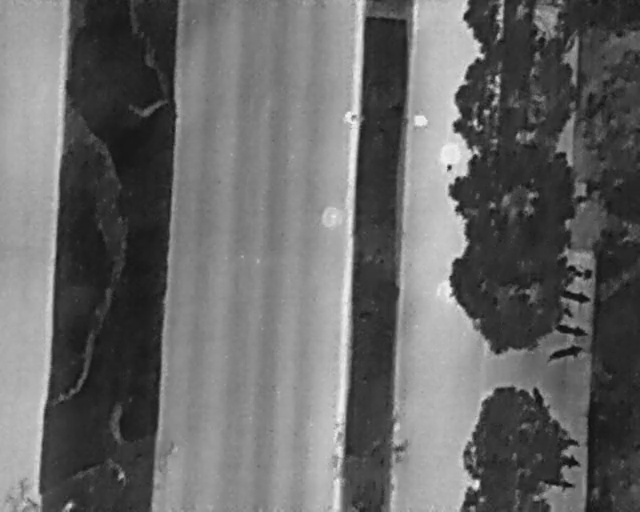Bicycle: (542, 470, 580, 497), (544, 341, 585, 365), (558, 283, 593, 308), (553, 318, 591, 340), (567, 265, 597, 282), (559, 450, 582, 470), (554, 435, 581, 450)
